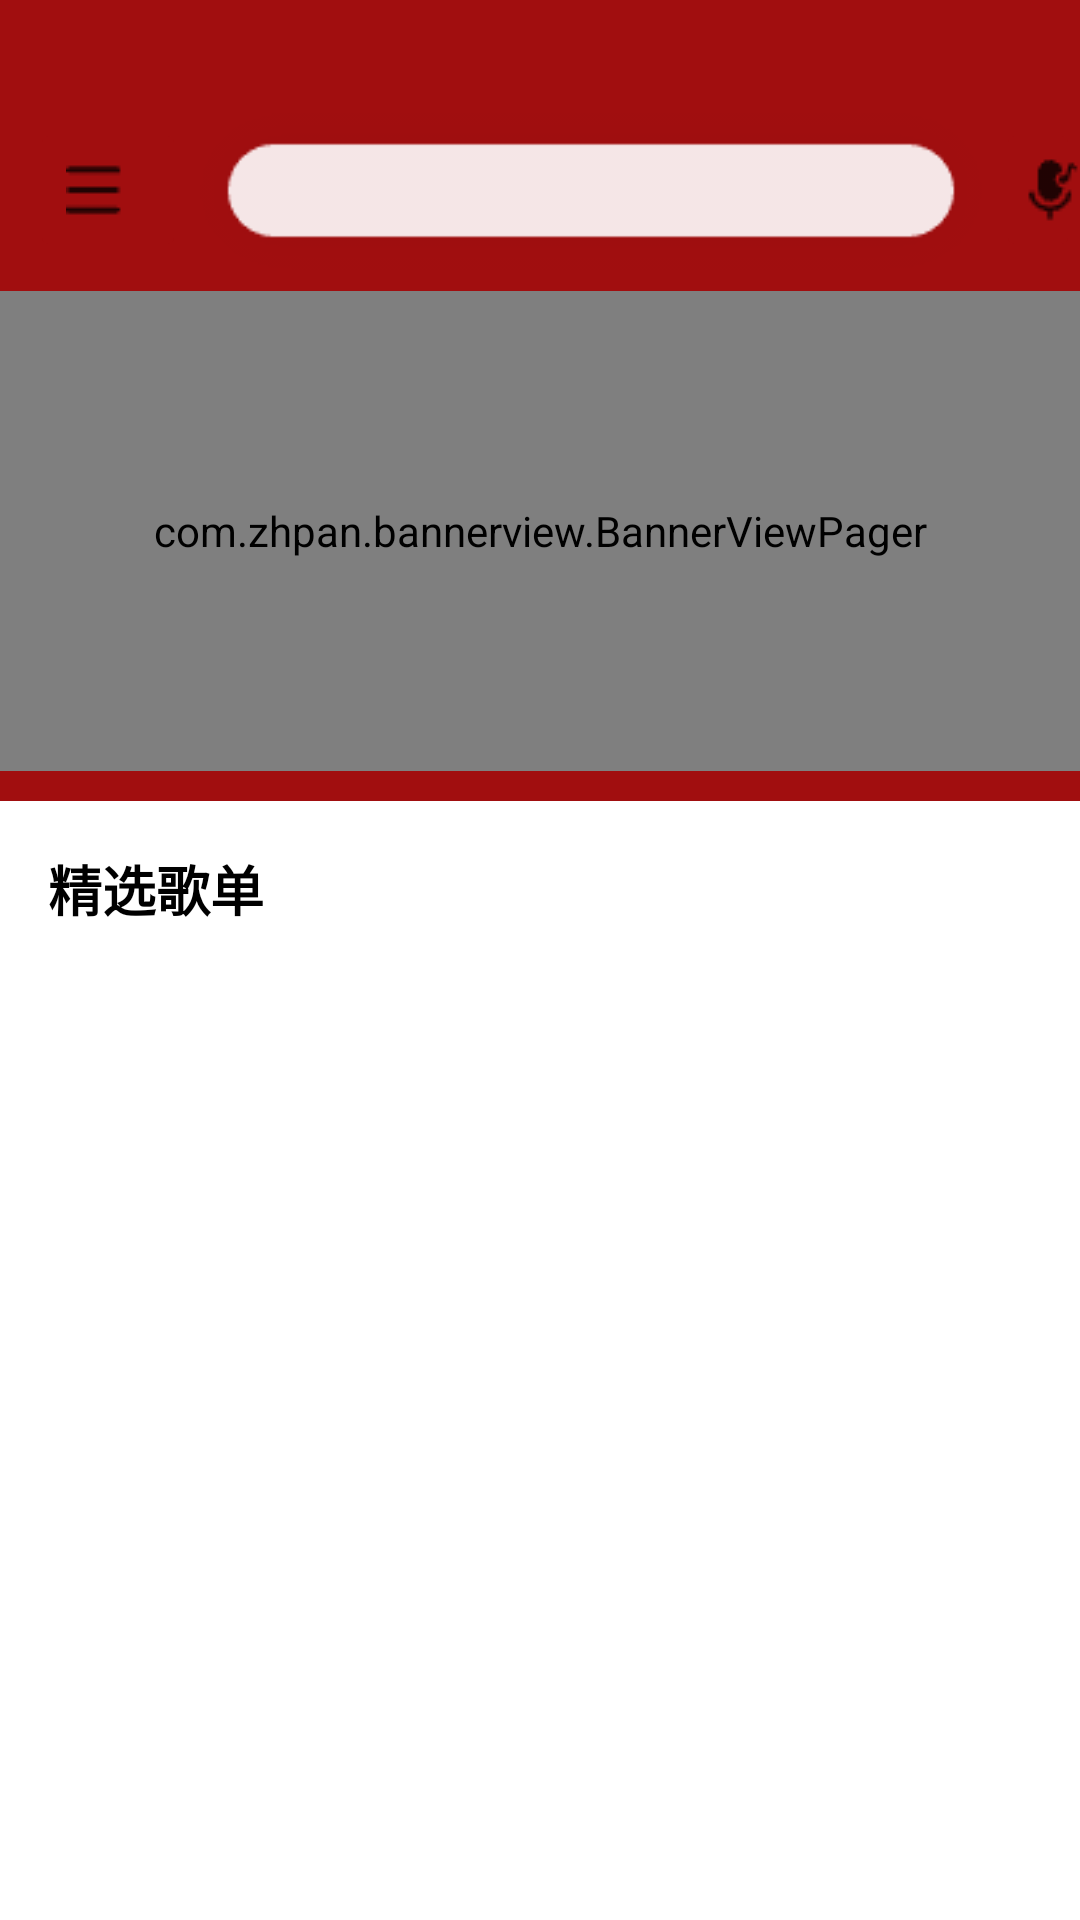

Icon click points for this 1080x1920 phone screenshot, format point (x, y):
listen: point (1053, 189)
